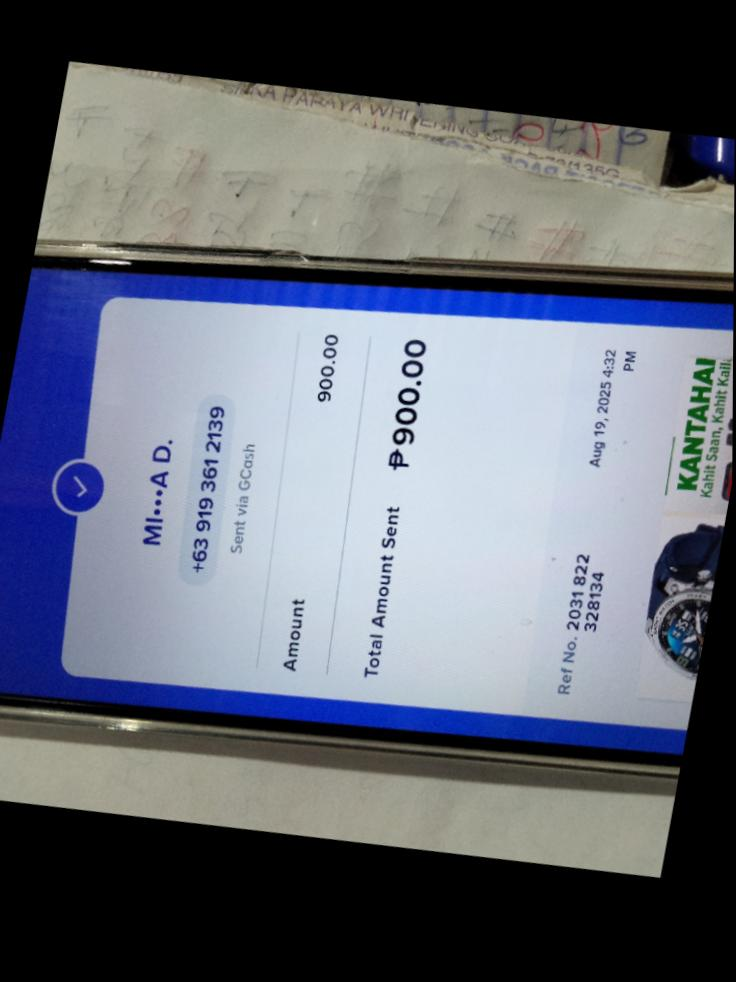Receipt: (0, 270, 733, 752)
